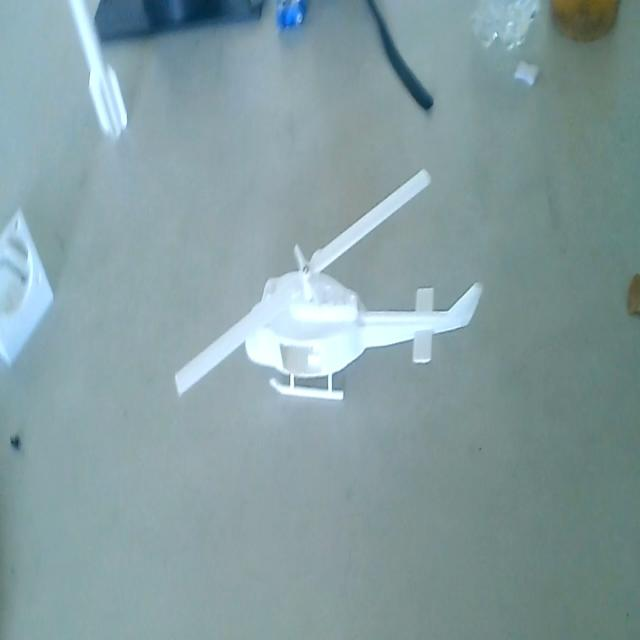Helicopter: (170, 165, 484, 430)
Rocket: (62, 0, 136, 141)
